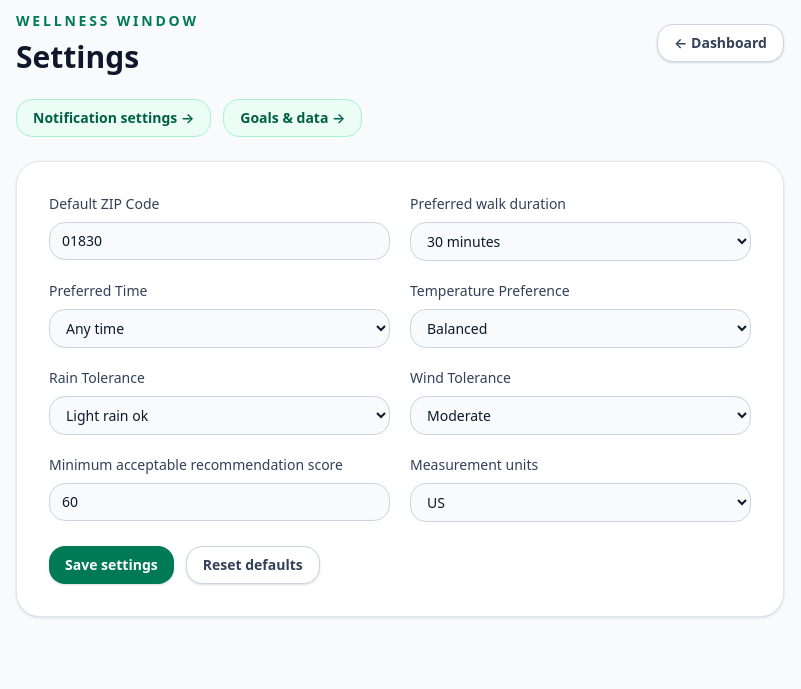
Test case: SettingsPage › validates ZIP and minimum score before saving
Step 1. Replace the text in the field labelled "Default ZIP Code" with "abc" → [220, 241], box [49,222,390,260]
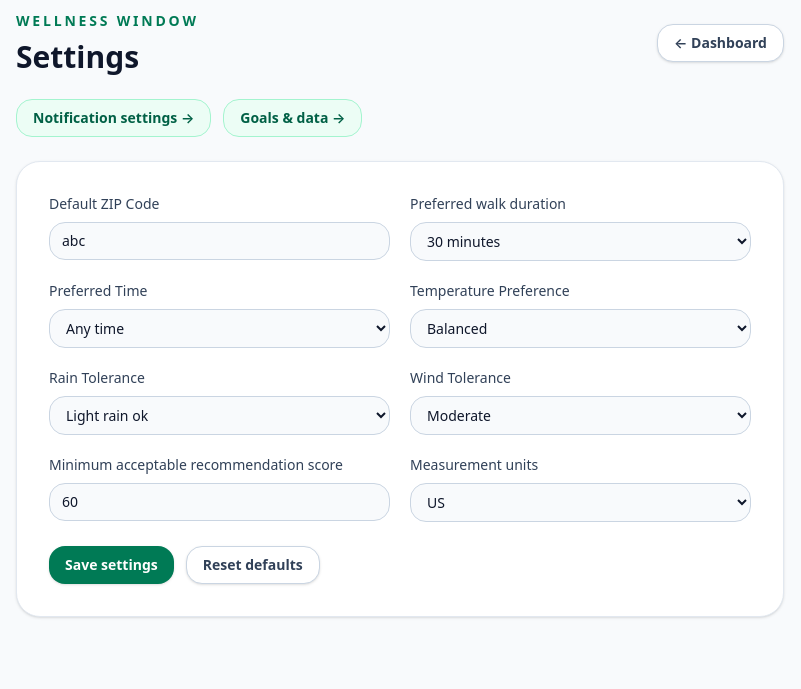
Step 2. Replace the text in the number field labelled "Minimum acceptable recommendation score" with "101" → [220, 502], box [49,483,390,521]
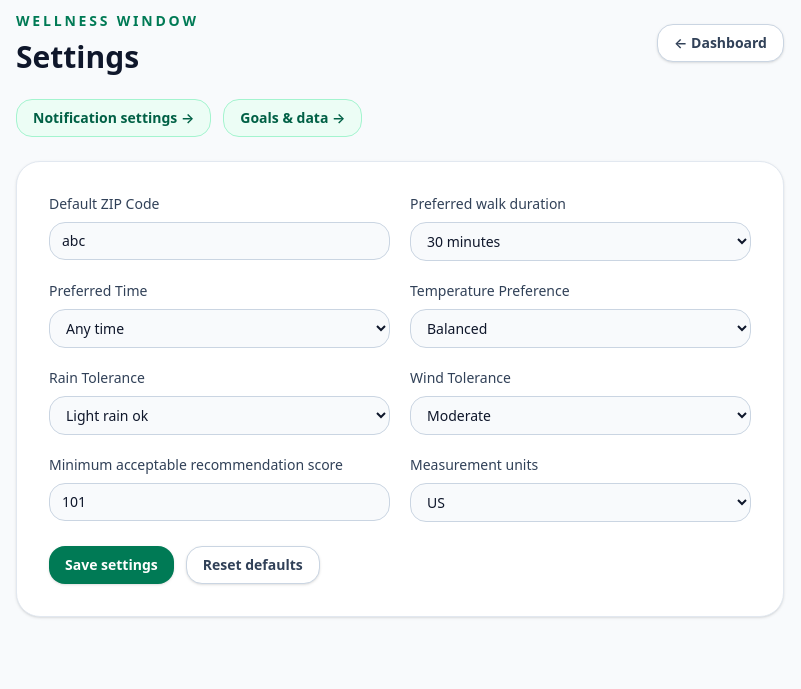
Step 3. Click the button "Save settings" → [111, 565], box [49,546,174,584]
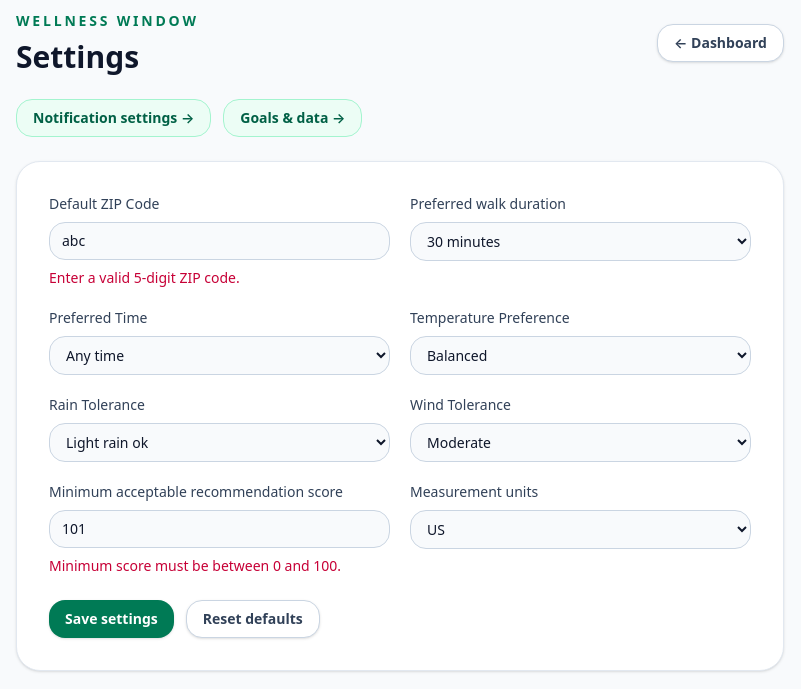
Expected: the text "Enter a valid 5-digit ZIP code." is shown, [49,268,240,287]
Expected: the text "Minimum score must be between 0 and 100." is shown, [49,556,390,576]
